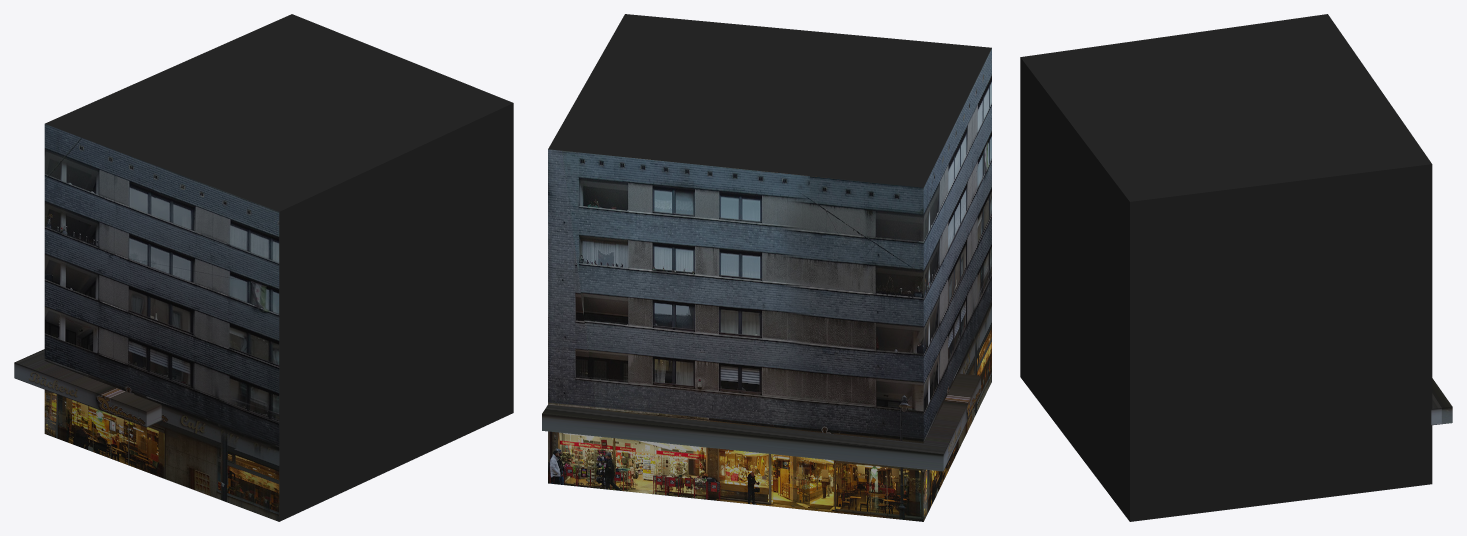
The model's file is B_Werth_52.FBX.
The picture shows the model from 3 angles, left to right: view 1: azimuth 30°, elevation 25°; view 2: azimuth 150°, elevation 25°; view 3: azimuth 270°, elevation 25°; orthographic projection. The views are drawn at different scales.
Visible parts, largest first — view 1: B_Werth_52, B_Werth_52_side, B_Werth_52_element; view 2: B_Werth_52_front, B_Werth_52, B_Werth_52_side, B_Werth_52_element; view 3: B_Werth_52, B_Werth_52_element.
Boxes of the visible parts, bbox=[...] form: B_Werth_52: bbox=[45, 14, 513, 521]; B_Werth_52_side: bbox=[44, 124, 279, 521]; B_Werth_52_element: bbox=[14, 349, 161, 427]; B_Werth_52_front: bbox=[548, 149, 923, 521]; B_Werth_52: bbox=[548, 14, 991, 187]; B_Werth_52_side: bbox=[923, 48, 991, 521]; B_Werth_52_element: bbox=[542, 373, 980, 471]; B_Werth_52: bbox=[1020, 14, 1432, 521]; B_Werth_52_element: bbox=[1431, 378, 1452, 425].
Bounding box in the file's own units: 2279 × 1700 × 2080.
3 materials, 2 textured.
